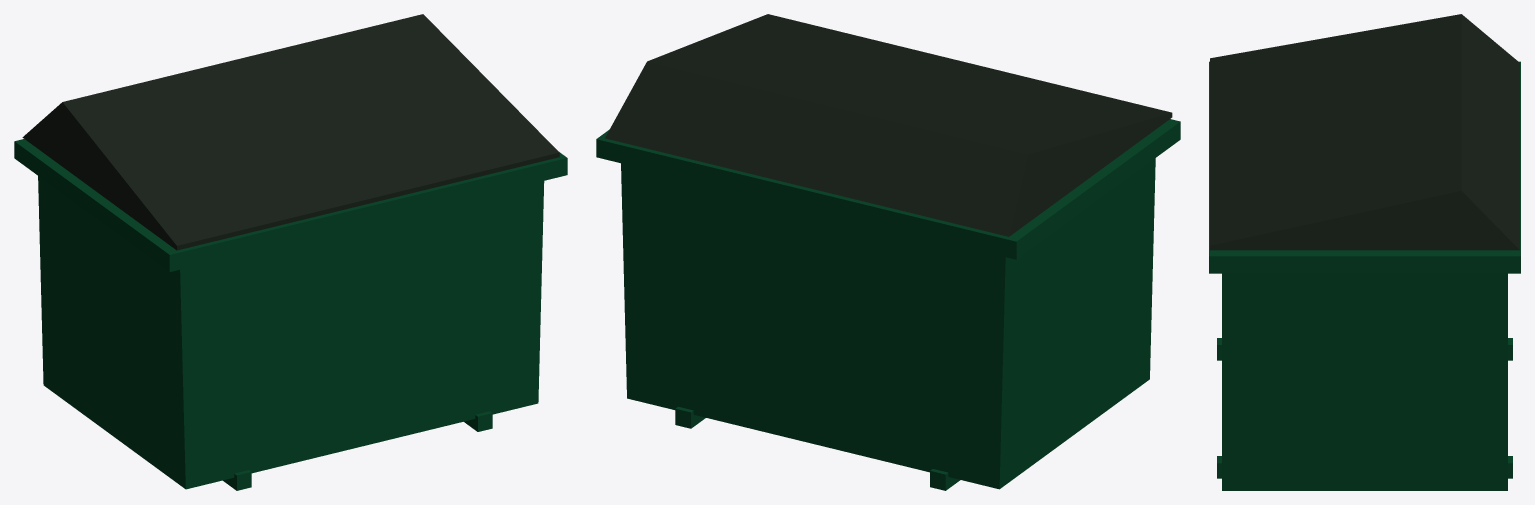
The model's file is dumpster.fbx.
The picture shows the model from 3 angles, left to right: view 1: azimuth 30°, elevation 25°; view 2: azimuth 150°, elevation 25°; view 3: azimuth 270°, elevation 25°; orthographic projection. The views are drawn at different scales.
Parts seen in each view (by area): view 1: Dumpster; view 2: Dumpster; view 3: Dumpster.
Part boxes in pixels (x1=…): Dumpster: x1=14, y1=14, x2=567, y2=490; Dumpster: x1=596, y1=14, x2=1180, y2=490; Dumpster: x1=1209, y1=14, x2=1520, y2=490.
Bounding box in the file's own units: 112 × 165 × 124.
1 material, 1 textured.
